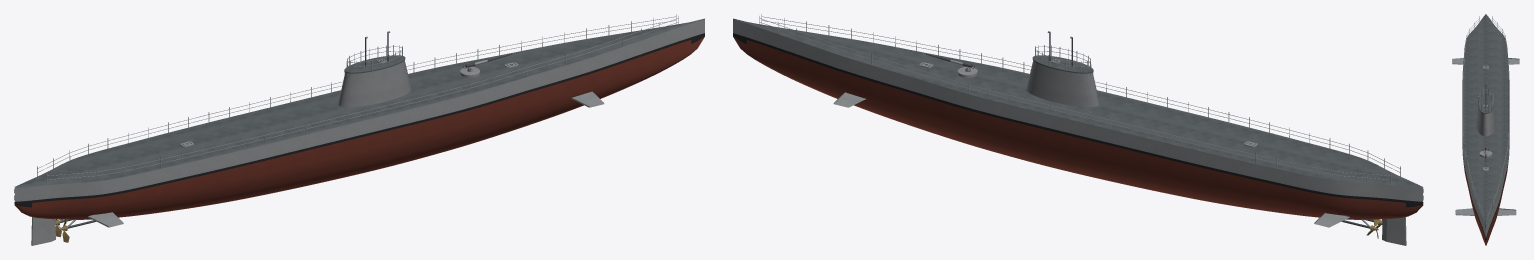
File: hai_typ9.glb
The picture shows the model from 3 angles, left to right: view 1: azimuth 30°, elevation 25°; view 2: azimuth 150°, elevation 25°; view 3: azimuth 270°, elevation 25°; orthographic projection. The views are drawn at different scales.
Visible parts, largest first — view 1: Hai; view 2: Hai; view 3: Hai.
Part boxes in pixels (left/top/right/bottom): Hai: left=14, top=14, right=704, bottom=245; Hai: left=733, top=14, right=1423, bottom=245; Hai: left=1452, top=14, right=1519, bottom=245.
Bounding box in the file's own units: 68 × 12.35 × 8.99.
Materials: 6 (6 with a texture image).
